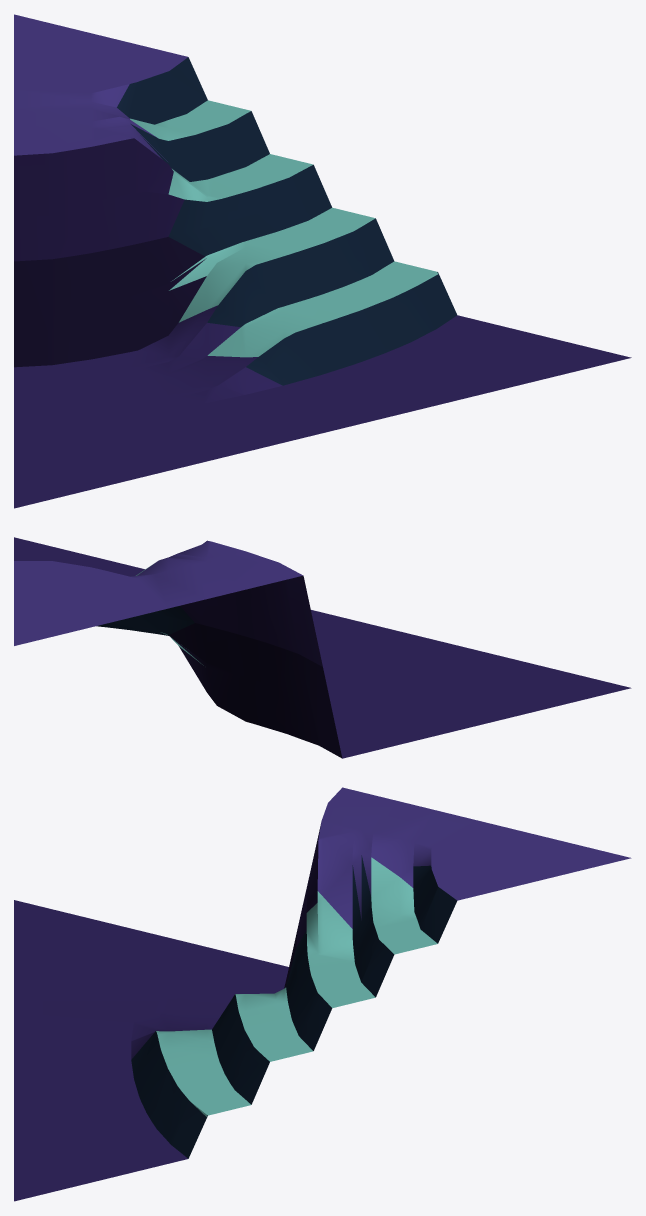
The model's file is MODULE_ALIEN_MIX_CORNER_A_1.fbx.
The picture shows the model from 3 angles, top to bottom: view 1: azimuth 30°, elevation 25°; view 2: azimuth 150°, elevation 25°; view 3: azimuth 270°, elevation 25°; orthographic projection.
Visible parts, largest first — view 1: MODULE_ALIEN_MIX_CORNER_A_1__export; view 2: MODULE_ALIEN_MIX_CORNER_A_1__export; view 3: MODULE_ALIEN_MIX_CORNER_A_1__export.
Boxes of the visible parts, x1,y1,x2,y2 form: MODULE_ALIEN_MIX_CORNER_A_1__export: (14,14,631,508); MODULE_ALIEN_MIX_CORNER_A_1__export: (14,537,631,758); MODULE_ALIEN_MIX_CORNER_A_1__export: (14,787,631,1201).
Bounding box in the file's own units: 100 × 29.78 × 86.6.
